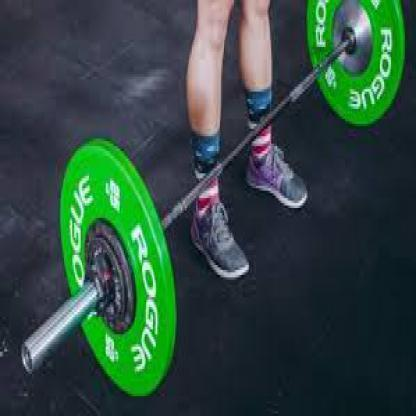barbell: (23, 0, 404, 397)
